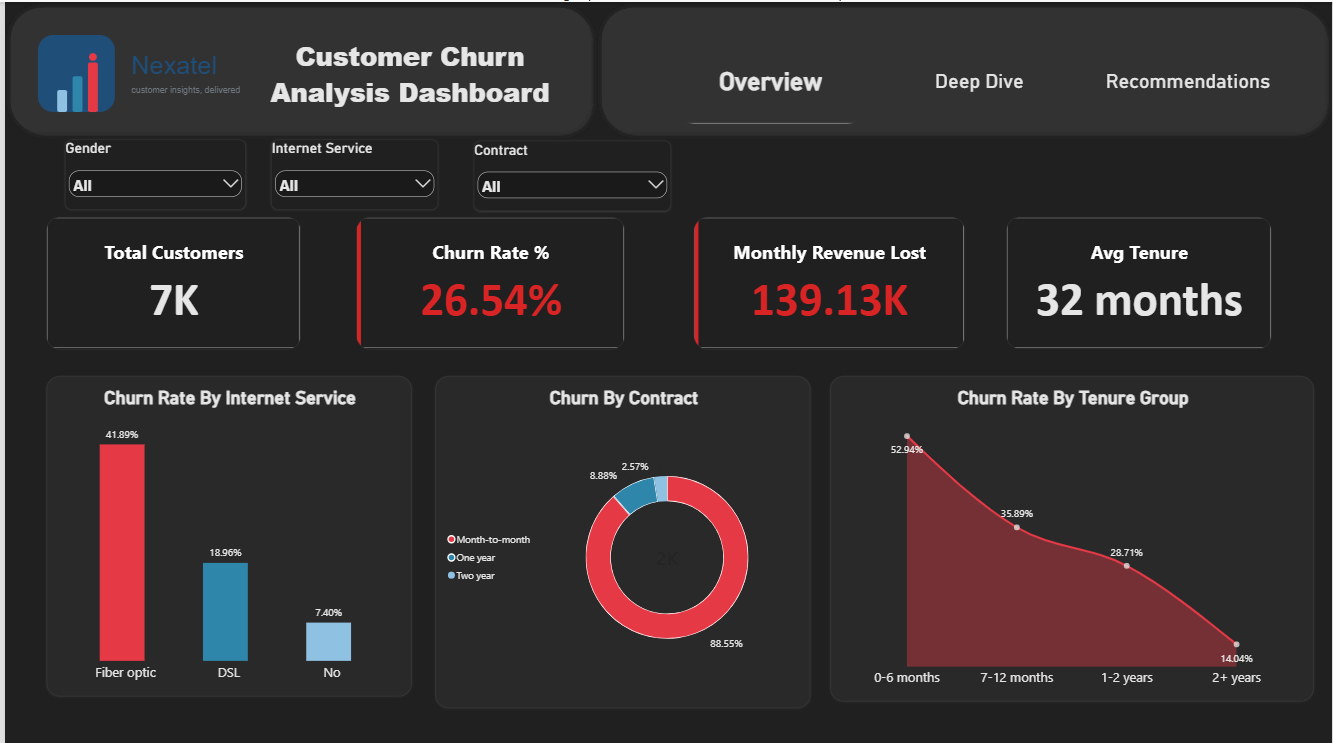

Layout of this report page (visuals, bound fields, positions):
{"tool":"powerbi","page":{"name":"Overview","canvas":[1920,1080],"ordinal":0},"visuals":[{"type":"cardVisual","fields":{"Data":["mesures.Total Customers"]},"box":[59,311.7,368.9,191.8],"z":0},{"type":"shape","box":[0,0,856,197.3],"z":1000},{"type":"cardVisual","fields":{"Data":["mesures.Churn Rate %"]},"box":[507.8,311.7,389.2,191.8],"z":2000},{"type":"image","box":[0,0,540.4,175.2],"z":3000},{"type":"cardVisual","fields":{"Data":["mesures.Monthly Revenue Lost"]},"box":[997.8,311.7,392.9,191.8],"z":4000},{"type":"textbox","box":[348.6,51.6,474,145.7],"z":5000},{"type":"cardVisual","fields":{"Data":["mesures.Avg Tenure"]},"box":[1449.7,311.7,384.4,191.3],"z":6000},{"type":"shape","box":[856,0,1064.1,197.3],"z":7000},{"type":"lineChart","title":"Churn Rate By Tenure Group","fields":{"Y":["mesures.Churn Rate %"],"Category":["vw_telco_churn_clean.tenure_group"]},"box":[1195.2,540.4,700.9,472.2],"z":8000},{"type":"donutChart","title":"Churn By Contract","fields":{"Y":["mesures.Churned Customers"],"Series":["vw_telco_churn_clean.contract"]},"box":[623.4,540.4,544.1,481.4],"z":9000},{"type":"columnChart","title":"Churn Rate By Internet Service","fields":{"Y":["mesures.Churn Rate %"],"Category":["vw_telco_churn_clean.internet_service"]},"box":[59,540.4,529.3,464.8],"z":10000},{"type":"slicer","title":"Gender","fields":{"Values":["vw_telco_churn_clean.gender"]},"box":[86.7,199.2,261.9,101.4],"z":11000},{"type":"slicer","title":"Internet Service","fields":{"Values":["vw_telco_churn_clean.internet_service"]},"box":[385.5,199.2,241.6,101.4],"z":12000},{"type":"slicer","title":"Contract","fields":{"Values":["vw_telco_churn_clean.contract"]},"box":[678.7,201,285.9,101.4],"z":13000},{"type":"pageNavigator","box":[960.9,51.6,900.1,125.4],"z":14000}]}

Visuals, with their boxes in screenshot pixels (x1, y1, x2, y2), scaled from the page's 1920x1080 canvas onto the 1333x743 screenshot:
cardVisual - mesures.Total Customers: [41,214,297,346]
shape: [0,0,594,136]
cardVisual - mesures.Churn Rate %: [353,214,623,346]
image: [0,0,375,121]
cardVisual - mesures.Monthly Revenue Lost: [693,214,966,346]
textbox: [242,35,571,136]
cardVisual - mesures.Avg Tenure: [1006,214,1273,346]
shape: [594,0,1332,136]
"Churn Rate By Tenure Group" lineChart: [830,372,1316,697]
"Churn By Contract" donutChart: [433,372,811,703]
"Churn Rate By Internet Service" columnChart: [41,372,408,692]
"Gender" slicer: [60,137,242,207]
"Internet Service" slicer: [268,137,435,207]
"Contract" slicer: [471,138,670,208]
pageNavigator: [667,35,1292,122]
